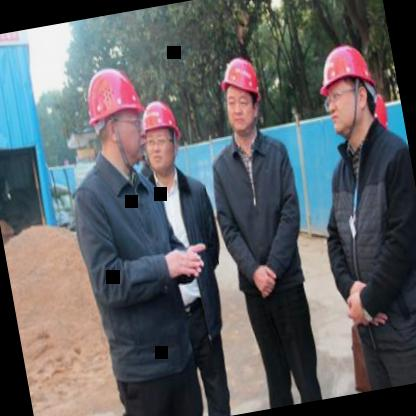helmet: (80, 58, 158, 176), (311, 32, 384, 140), (210, 50, 274, 142), (132, 90, 186, 176)
